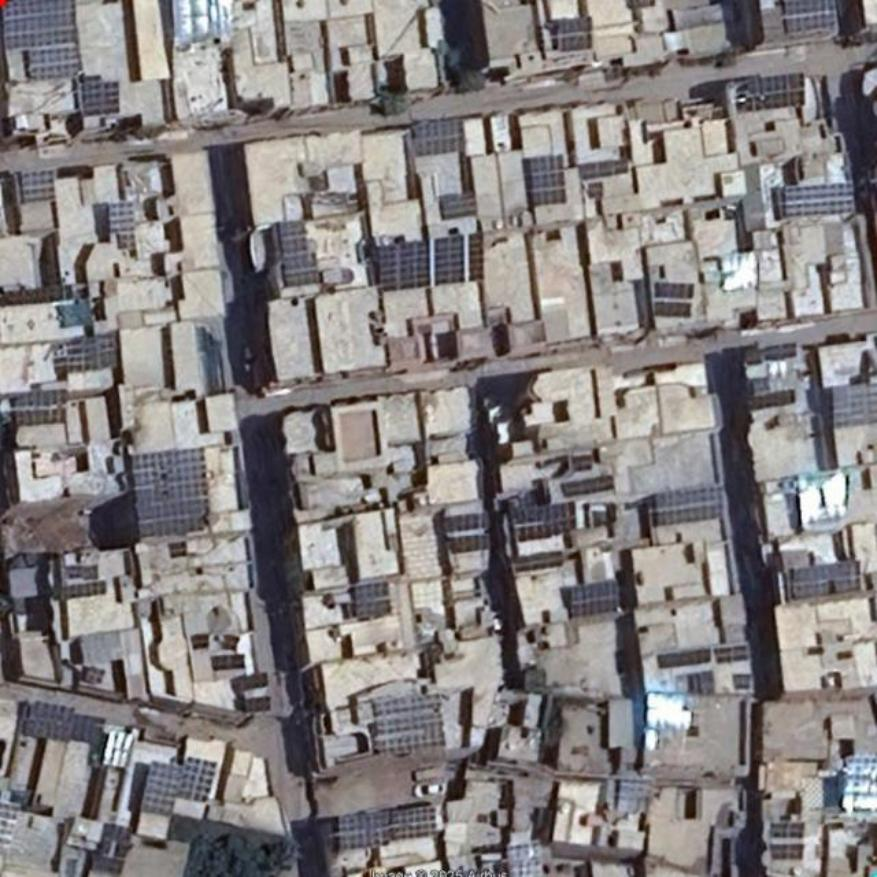Solarpanel: (134, 446, 210, 535), (0, 0, 81, 82), (374, 692, 445, 752), (279, 221, 324, 286), (655, 486, 723, 524), (792, 561, 861, 598), (783, 183, 858, 215), (140, 761, 183, 813), (517, 503, 575, 539), (23, 701, 75, 741), (380, 241, 425, 287), (12, 388, 65, 427), (843, 754, 876, 815), (176, 754, 217, 803), (337, 812, 391, 849), (413, 119, 464, 155), (835, 383, 876, 427), (531, 152, 566, 202), (784, 0, 837, 32), (445, 514, 488, 552), (758, 73, 804, 108), (571, 583, 618, 617), (67, 337, 116, 369), (391, 806, 435, 841), (83, 80, 120, 117), (436, 235, 463, 282), (509, 841, 545, 876), (654, 285, 693, 317), (562, 473, 617, 495), (356, 582, 392, 615), (20, 172, 54, 202), (558, 18, 590, 49), (658, 649, 711, 666), (582, 158, 630, 176), (470, 233, 485, 282), (231, 673, 267, 693), (110, 202, 133, 230), (63, 582, 102, 596), (770, 842, 803, 858), (772, 820, 802, 837), (717, 646, 747, 662), (213, 654, 243, 668)
